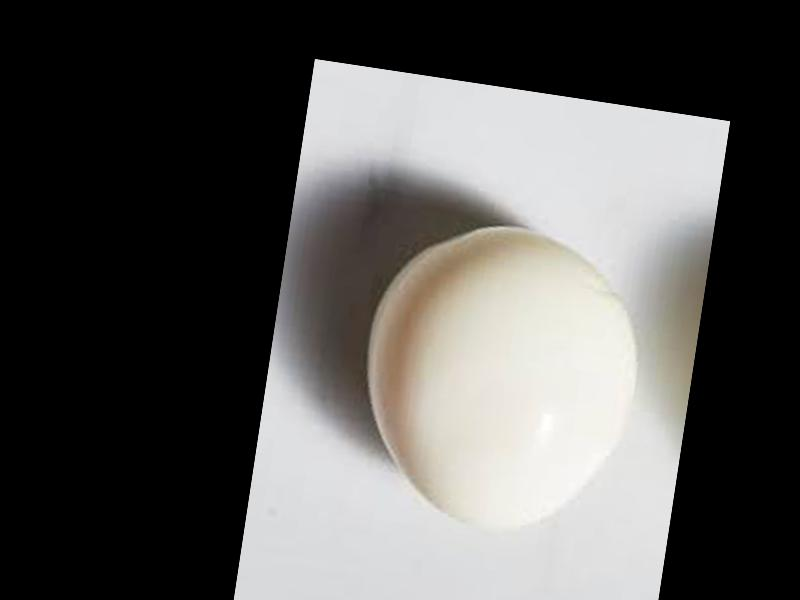Eggs: (345, 207, 655, 544)
